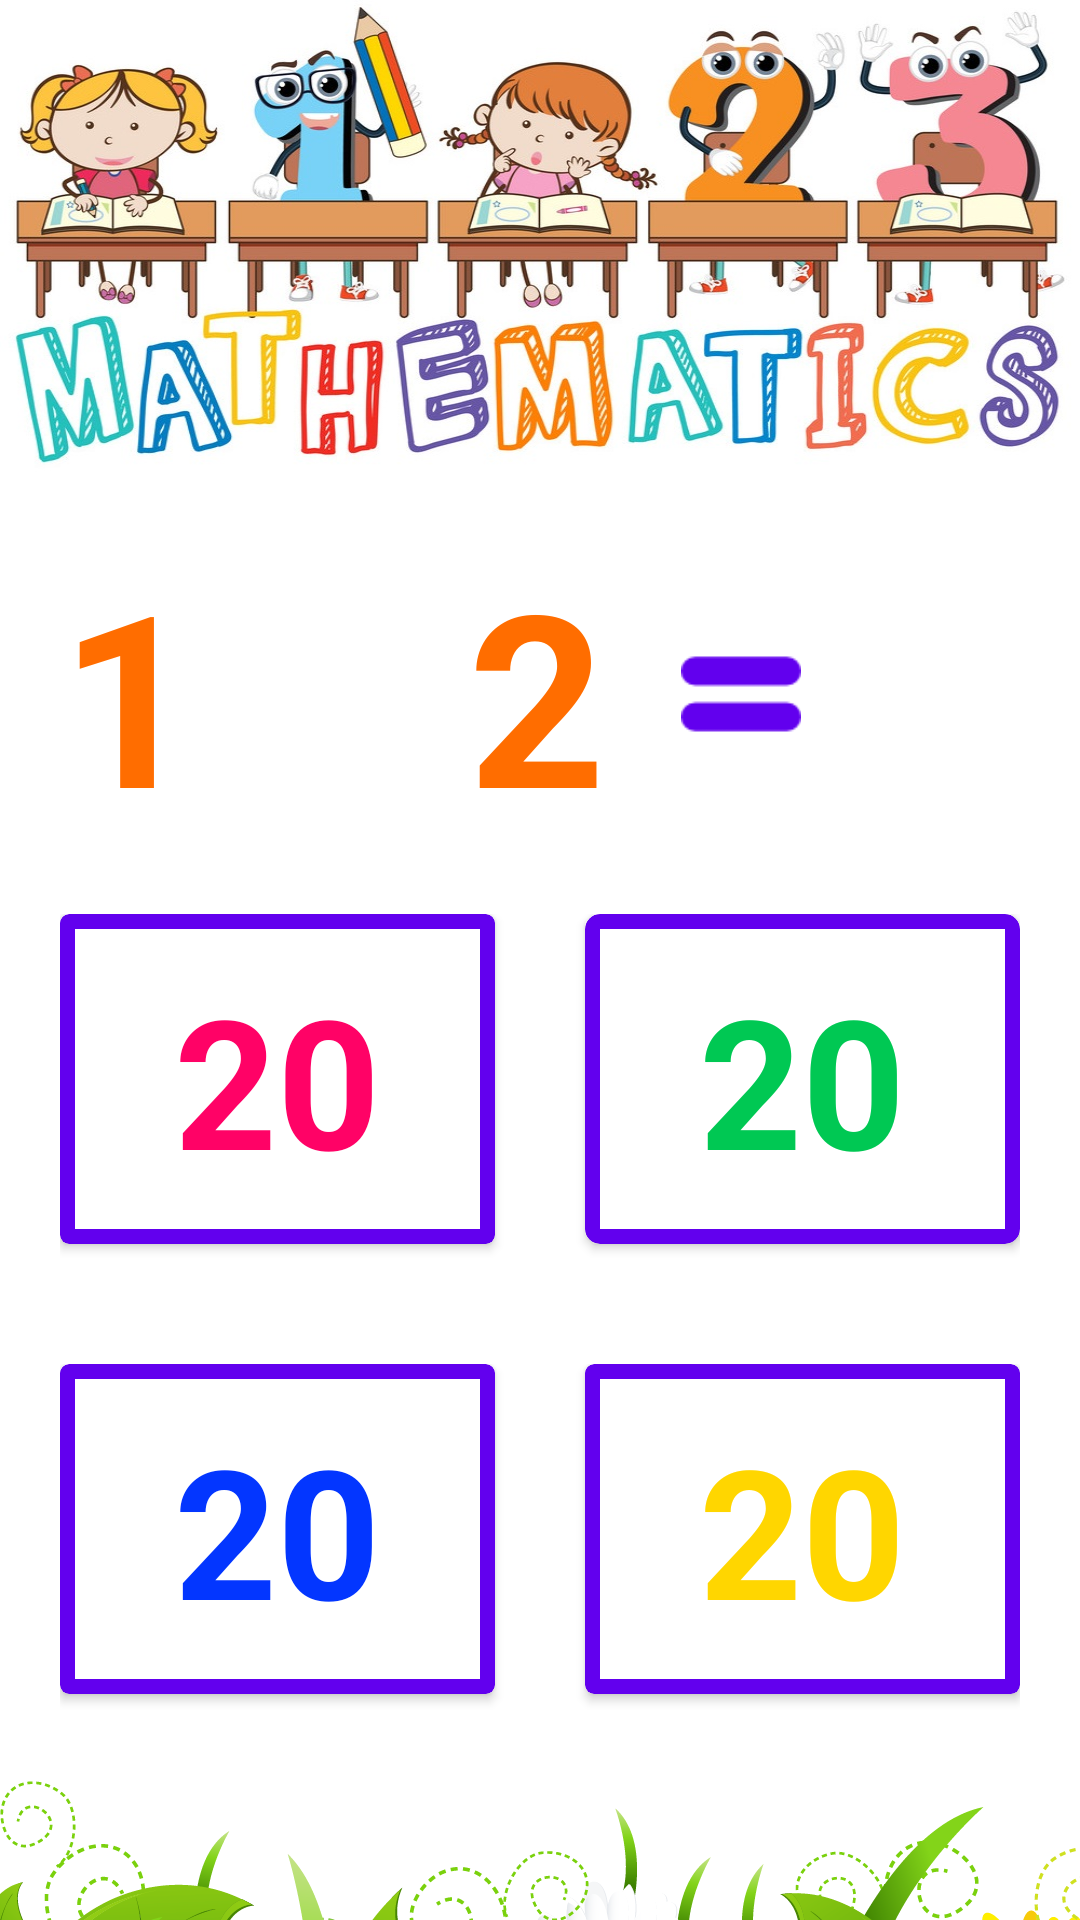

Icon click points for this 1080*1920 phone screenshot, format (x,y):
equal: (741,694)
